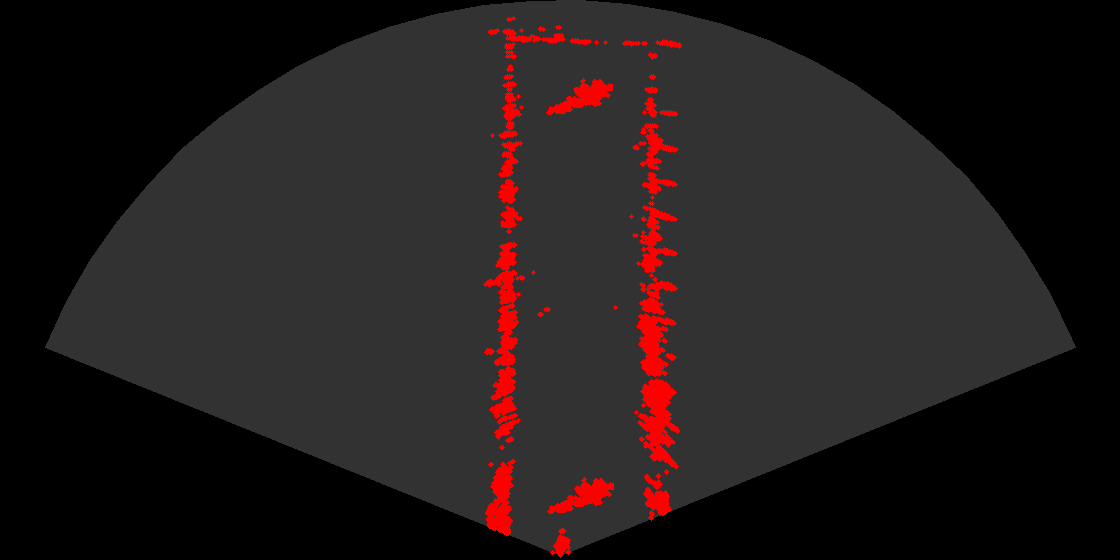frogman: (545, 72, 613, 119), (546, 471, 614, 518)
